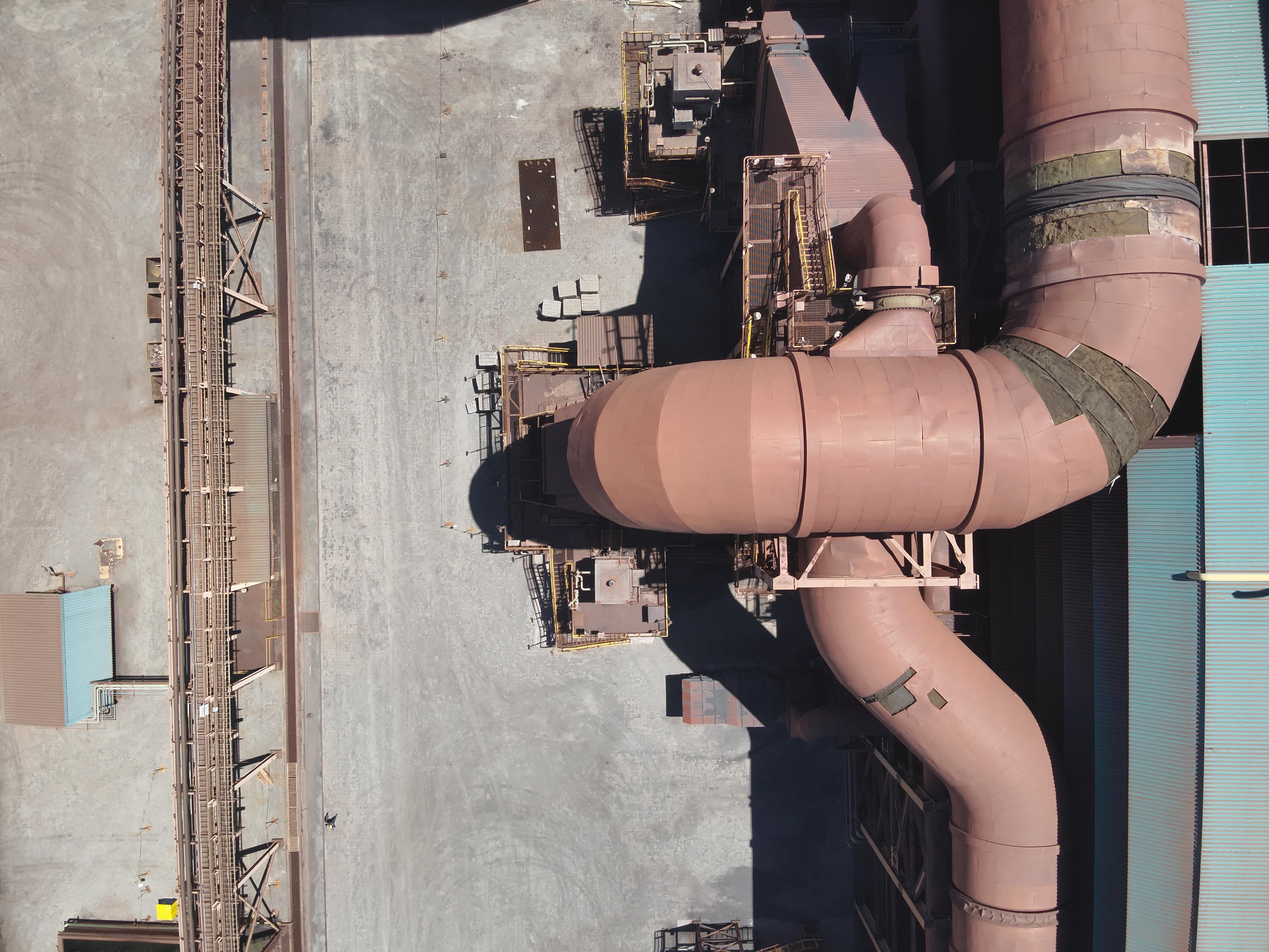Failures: (981, 321, 1163, 489), (994, 138, 1214, 260), (861, 664, 921, 725), (927, 685, 949, 722)
